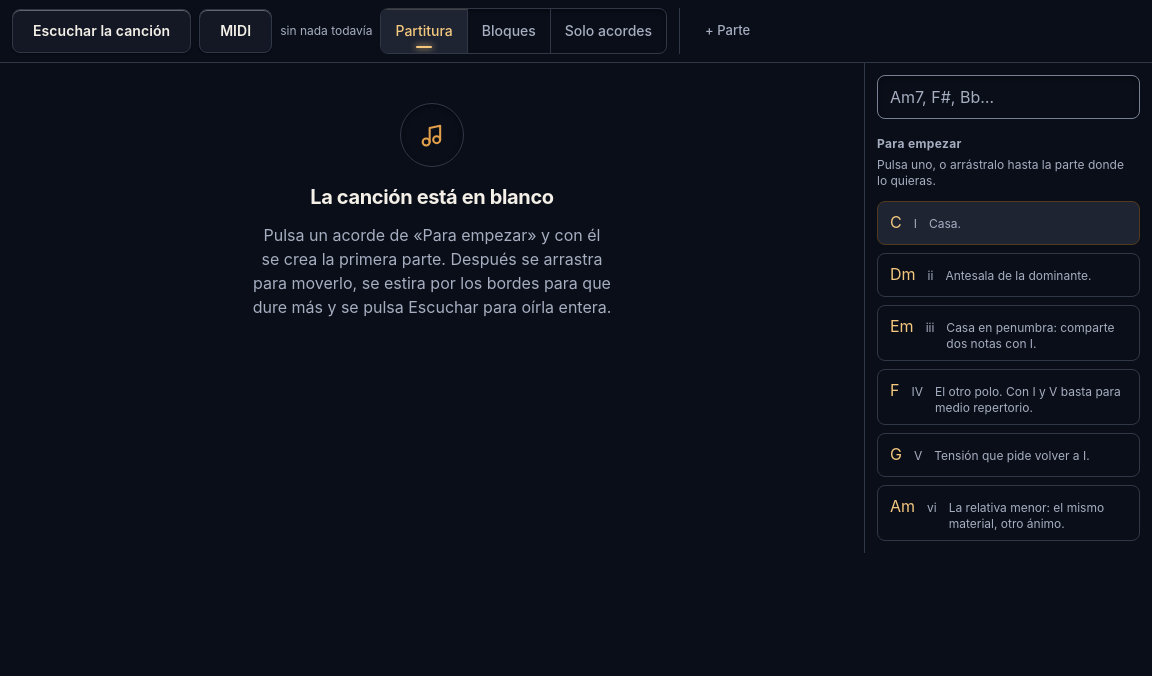
Test: montar › en bloques, la leyenda de los papeles va encima de las partes
Click the button "Bloques": (508, 31) [467,9,550,53]
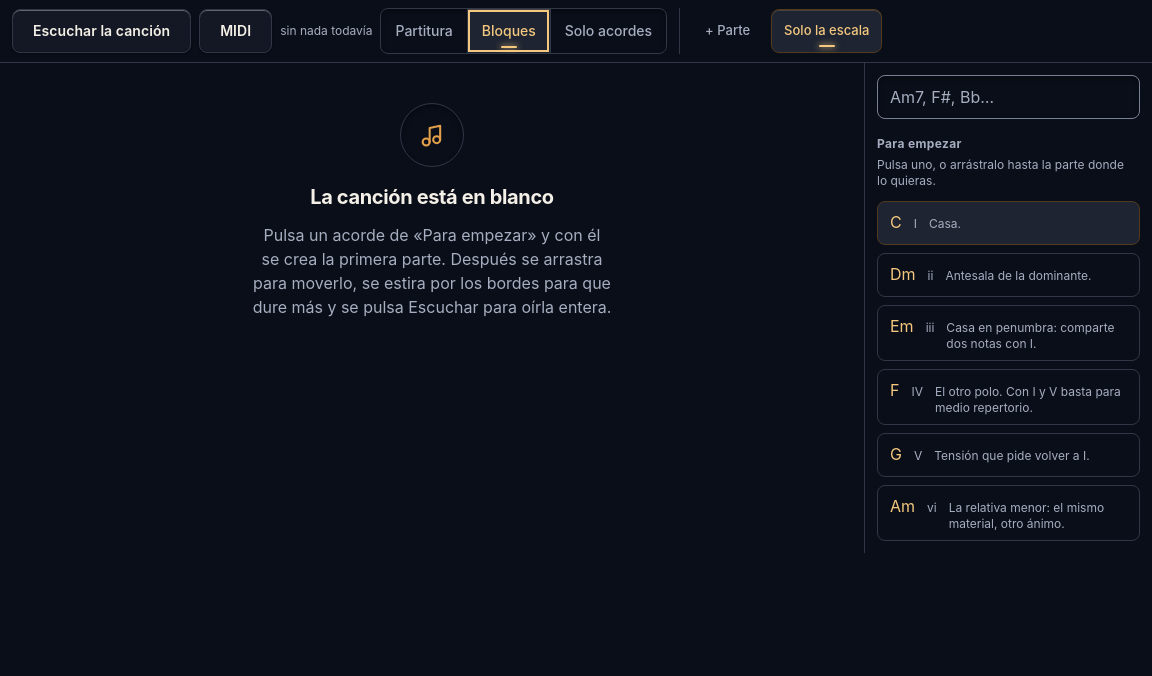
Expected: the text "reposo" is not shown
Click the button "C I Casa.": (945, 224) [877,201,1140,245]
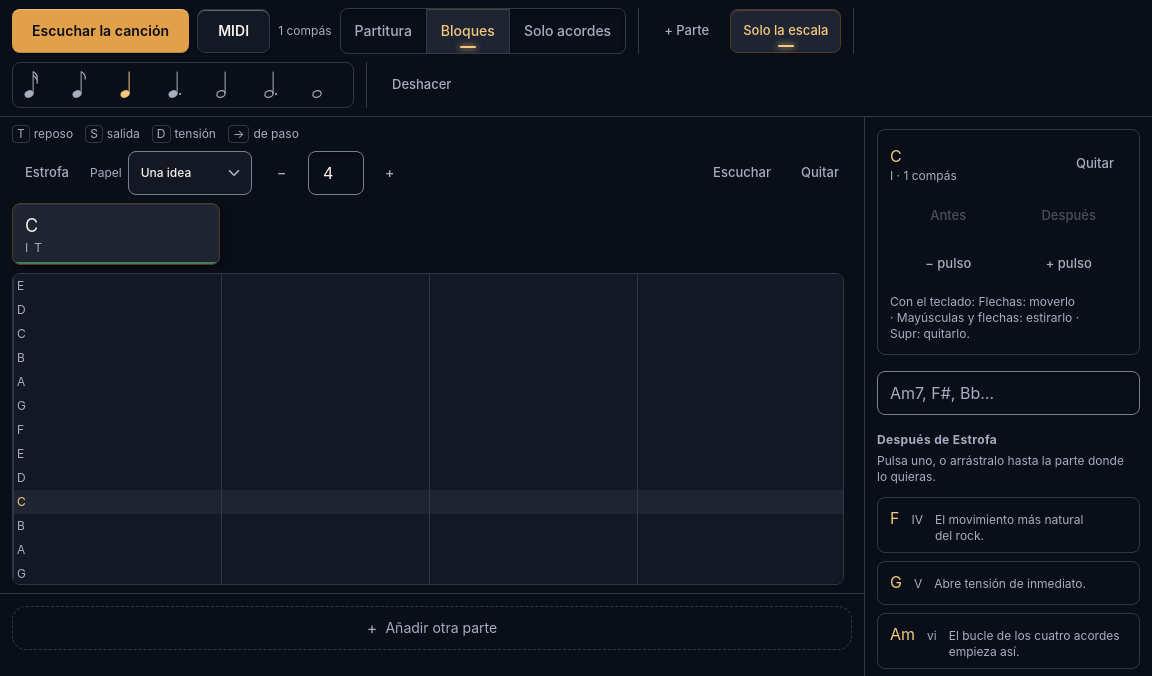
Result: the text "reposo" is shown at [34,126,73,141]
Result: the text "salida" is shown at [107,126,140,141]
Result: the text "tensión" is shown at [174,126,216,141]
Click the button "Partitura": (383, 31) [340,9,426,53]
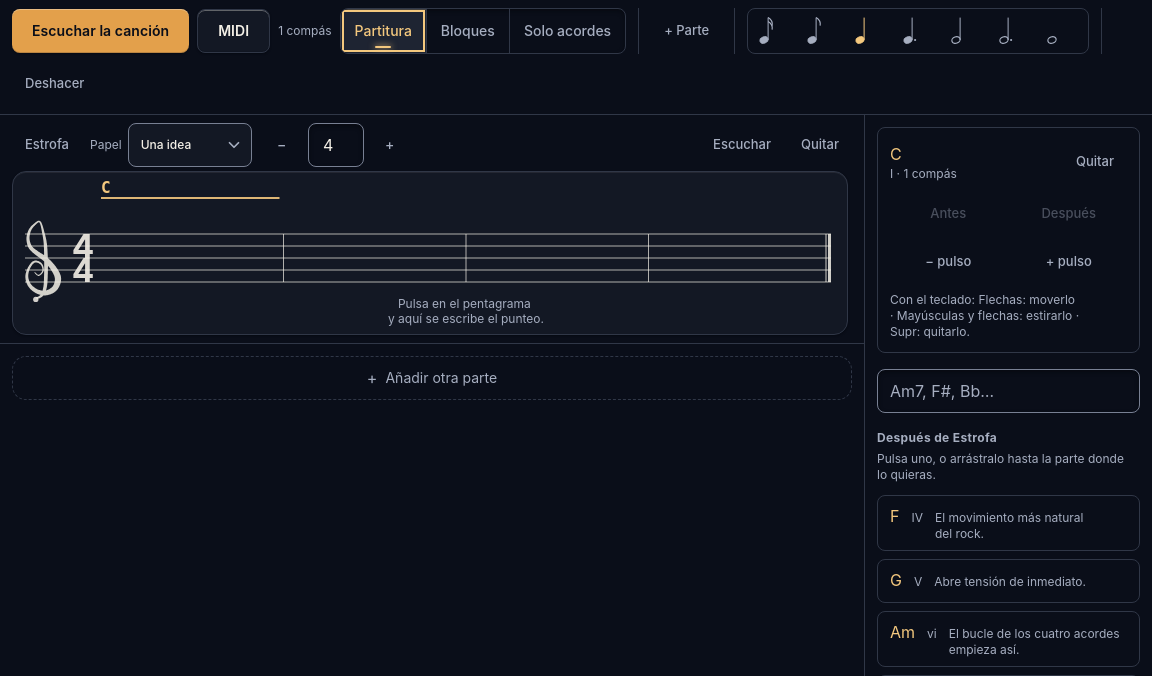
Result: the text "reposo" is gone
